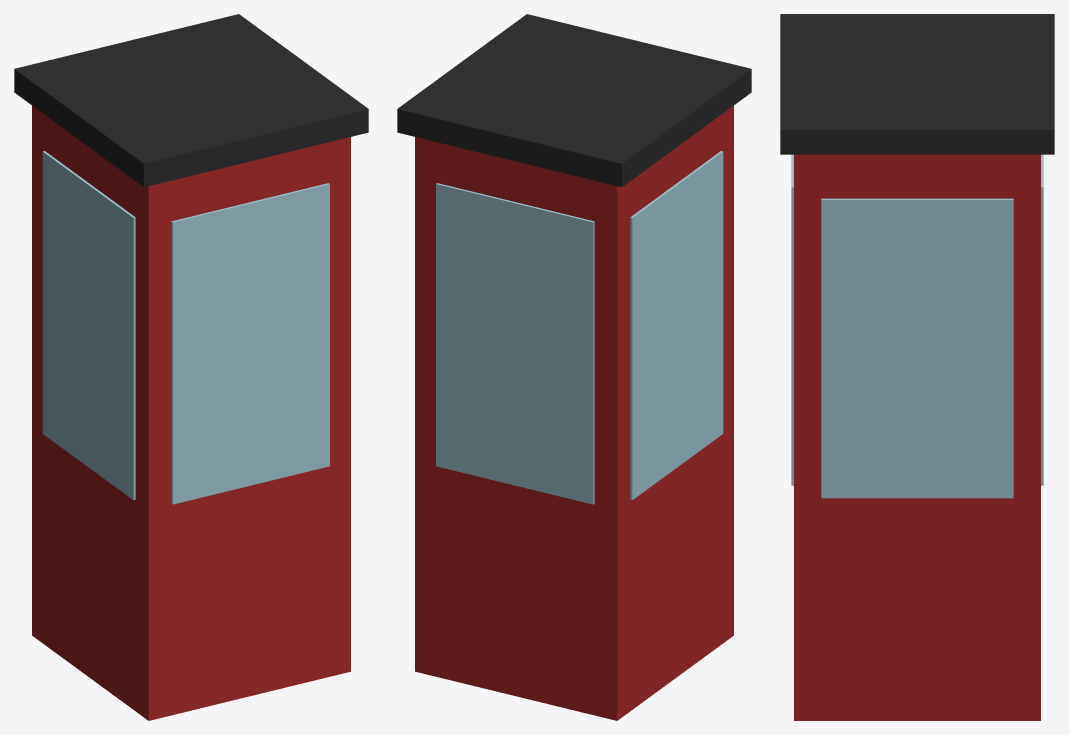
The model's file is cabina_telefonica.obj.
The picture shows the model from 3 angles, left to right: view 1: azimuth 30°, elevation 25°; view 2: azimuth 150°, elevation 25°; view 3: azimuth 270°, elevation 25°; orthographic projection. The views are drawn at different scales.
Visible parts, largest first — view 1: parte_00, parte_02, parte_01; view 2: parte_00, parte_02, parte_01; view 3: parte_00, parte_02, parte_01.
Boxes of the visible parts, box(x1,y1,x2,y2) form: parte_00: box(32, 105, 350, 720); parte_02: box(42, 151, 329, 504); parte_01: box(14, 14, 368, 187); parte_00: box(415, 105, 733, 720); parte_02: box(436, 151, 723, 504); parte_01: box(397, 14, 751, 187); parte_00: box(794, 154, 1040, 720); parte_02: box(791, 154, 1043, 498); parte_01: box(780, 14, 1054, 154).
Size of the model in its own units: 1 by 2.4 by 1.
